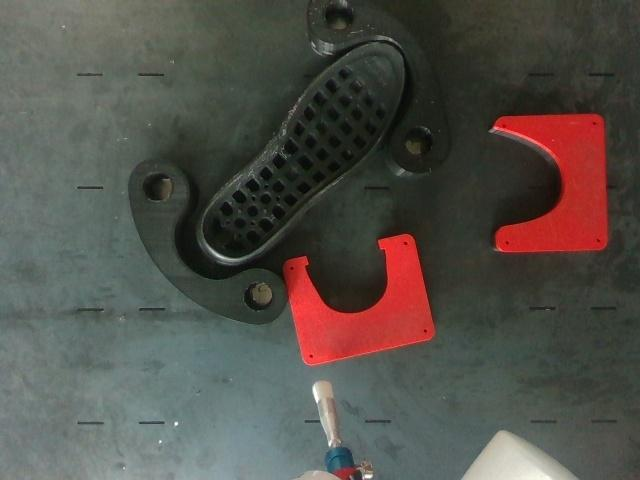shoes: (202, 44, 404, 258)
